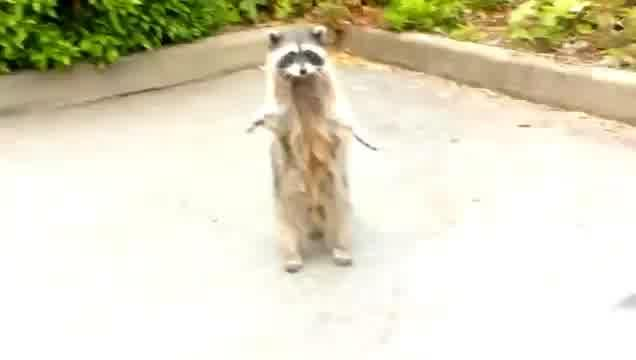raccoon: (236, 25, 381, 276)
